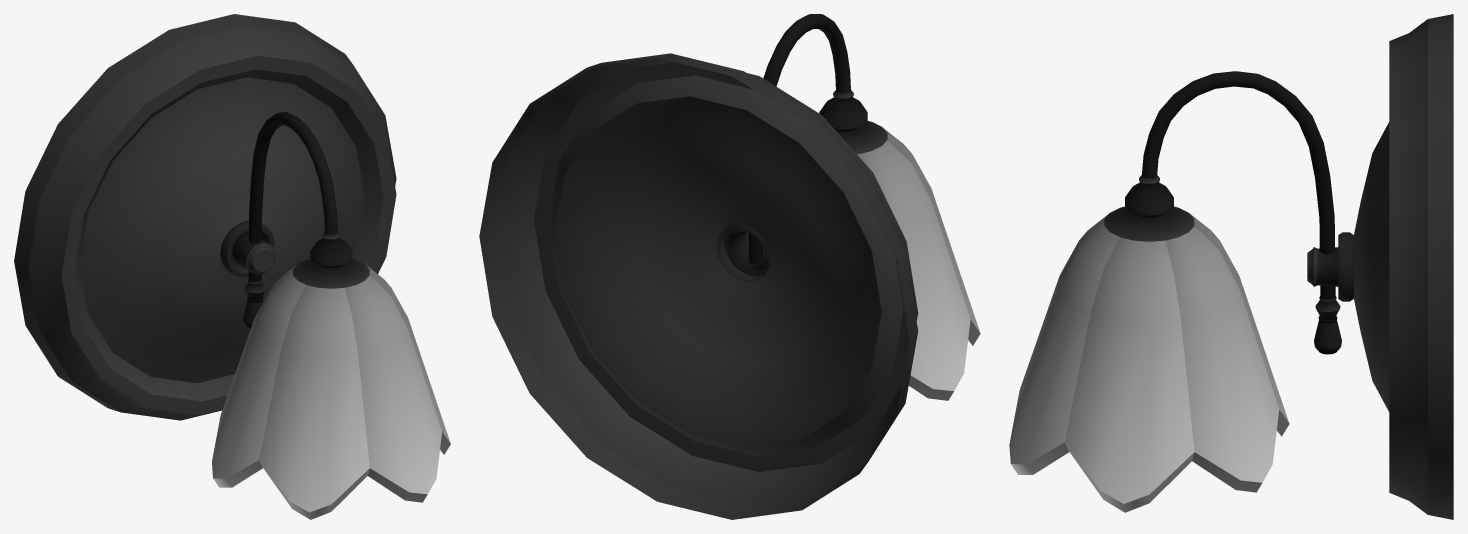
Rendered from Sconce_01.fbx.
3 views of the same model, side by side, from view 1: azimuth 30°, elevation 25°; view 2: azimuth 150°, elevation 25°; view 3: azimuth 270°, elevation 25° (orthographic). The views are drawn at different scales.
Visible parts, largest first — view 1: sconce1; view 2: sconce1; view 3: sconce1.
Part boxes in pixels (box(x1,y1,x2,y2)): sconce1: box(14, 14, 450, 519); sconce1: box(479, 14, 980, 519); sconce1: box(1009, 14, 1453, 519).
Bounding box in the file's own units: 0.4493 × 0.4424 × 0.3929.
